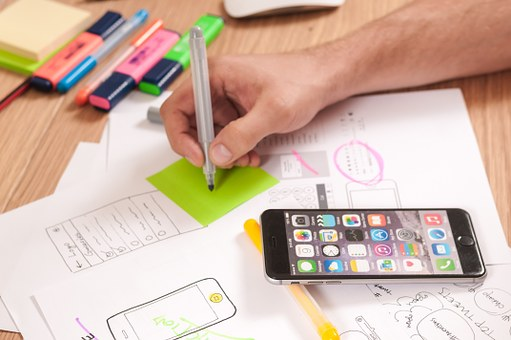mobile: (252, 206, 493, 290)
